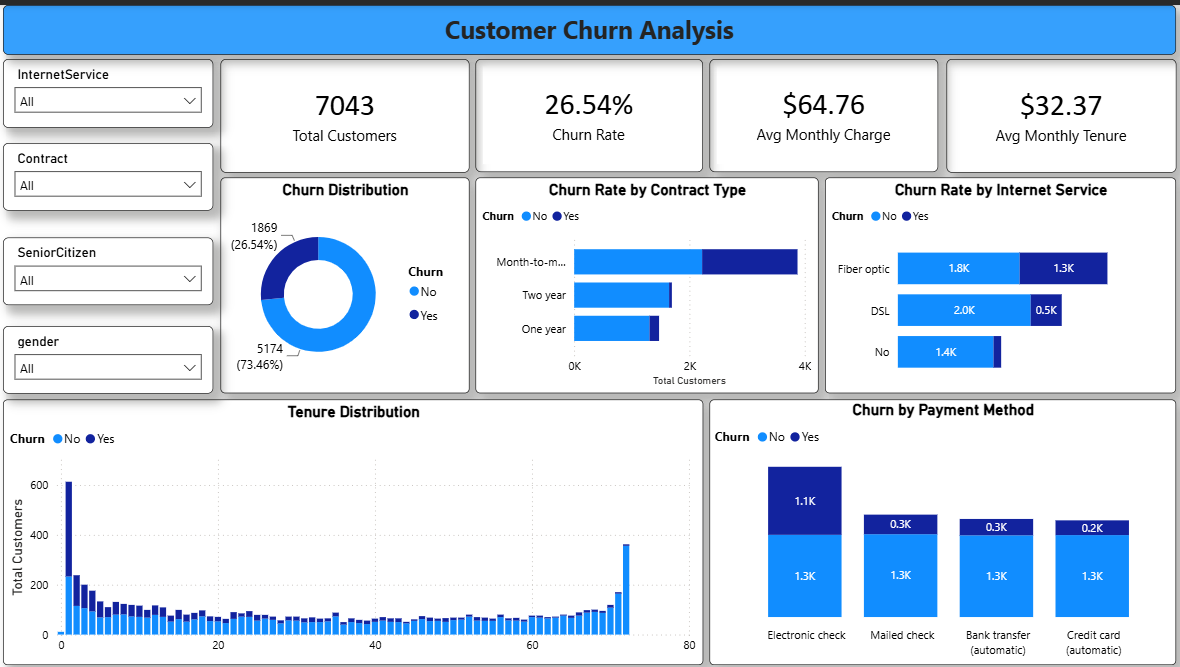

Layout of this report page (visuals, bound fields, positions):
{"tool":"powerbi","page":{"name":"Page 1","canvas":[1280,720],"ordinal":0},"visuals":[{"type":"cardVisual","fields":{"Data":["2 Cleaned_data.Total Customers"]},"box":[239.1,58.6,270,123.6],"z":0},{"type":"cardVisual","fields":{"Data":["2 Cleaned_data.Churn Rate"]},"box":[516.3,59.1,246.8,122.7],"z":1000},{"type":"cardVisual","fields":{"Data":["2 Cleaned_data.Avg Monthly Tenure"]},"box":[1025.6,58.7,249.2,123.2],"z":2000},{"type":"cardVisual","fields":{"Data":["2 Cleaned_data.Avg Monthly Tenure"]},"box":[770,59.1,248.3,122.7],"z":3000},{"type":"textbox","box":[3.3,0,1272,53.7],"z":4000},{"type":"donutChart","title":"Churn Distribution","fields":{"Category":["2 Cleaned_data.Churn"],"Y":["CountNonNull(2 Cleaned_data.customerID)"]},"box":[239.1,187.1,270,234.2],"z":5000},{"type":"barChart","title":"Churn Rate by Contract Type","fields":{"Category":["2 Cleaned_data.Contract"],"Y":["2 Cleaned_data.Total Customers"],"Series":["2 Cleaned_data.Churn"]},"box":[515.6,187.1,372,234.2],"z":6000},{"type":"barChart","title":"Churn Rate by Internet Service","fields":{"Y":["2 Cleaned_data.Total Customers"],"Series":["2 Cleaned_data.Churn"],"Category":["2 Cleaned_data.InternetService"]},"box":[894.6,187.1,380.6,234.2],"z":7000},{"type":"columnChart","title":"Tenure Distribution","fields":{"Category":["2 Cleaned_data.tenure"],"Y":["2 Cleaned_data.Total Customers"],"Series":["2 Cleaned_data.Churn"]},"box":[3.3,427.8,759.6,287.9],"z":8000},{"type":"columnChart","title":"Churn by Payment Method","fields":{"Y":["2 Cleaned_data.Total Customers"],"Series":["2 Cleaned_data.Churn"],"Category":["2 Cleaned_data.PaymentMethod"]},"box":[769.4,427.8,505.9,287.9],"z":9000},{"type":"slicer","fields":{"Values":["2 Cleaned_data.InternetService"]},"box":[3.3,58.6,227.7,74.8],"z":10000},{"type":"slicer","fields":{"Values":["2 Cleaned_data.gender"]},"box":[3.3,348.1,227.7,73.2],"z":11000},{"type":"slicer","fields":{"Values":["2 Cleaned_data.SeniorCitizen"]},"box":[3.3,252.1,227.7,73.2],"z":12000},{"type":"slicer","fields":{"Values":["2 Cleaned_data.Contract"]},"box":[3.3,149.6,227.7,73.2],"z":13000}]}

Visuals, with their boxes in screenshot pixels (x1, y1, x2, y2), scaled from the page's 1280x720 canvas onto the 1180x667 screenshot:
cardVisual - 2 Cleaned_data.Total Customers: bbox=(220, 54, 469, 169)
cardVisual - 2 Cleaned_data.Churn Rate: bbox=(476, 55, 703, 168)
cardVisual - 2 Cleaned_data.Avg Monthly Tenure: bbox=(945, 54, 1175, 169)
cardVisual - 2 Cleaned_data.Avg Monthly Tenure: bbox=(710, 55, 939, 168)
textbox: bbox=(3, 0, 1176, 50)
"Churn Distribution" donutChart: bbox=(220, 173, 469, 390)
"Churn Rate by Contract Type" barChart: bbox=(475, 173, 818, 390)
"Churn Rate by Internet Service" barChart: bbox=(825, 173, 1176, 390)
"Tenure Distribution" columnChart: bbox=(3, 396, 703, 663)
"Churn by Payment Method" columnChart: bbox=(709, 396, 1176, 663)
slicer - 2 Cleaned_data.InternetService: bbox=(3, 54, 213, 124)
slicer - 2 Cleaned_data.gender: bbox=(3, 322, 213, 390)
slicer - 2 Cleaned_data.SeniorCitizen: bbox=(3, 234, 213, 301)
slicer - 2 Cleaned_data.Contract: bbox=(3, 139, 213, 206)
